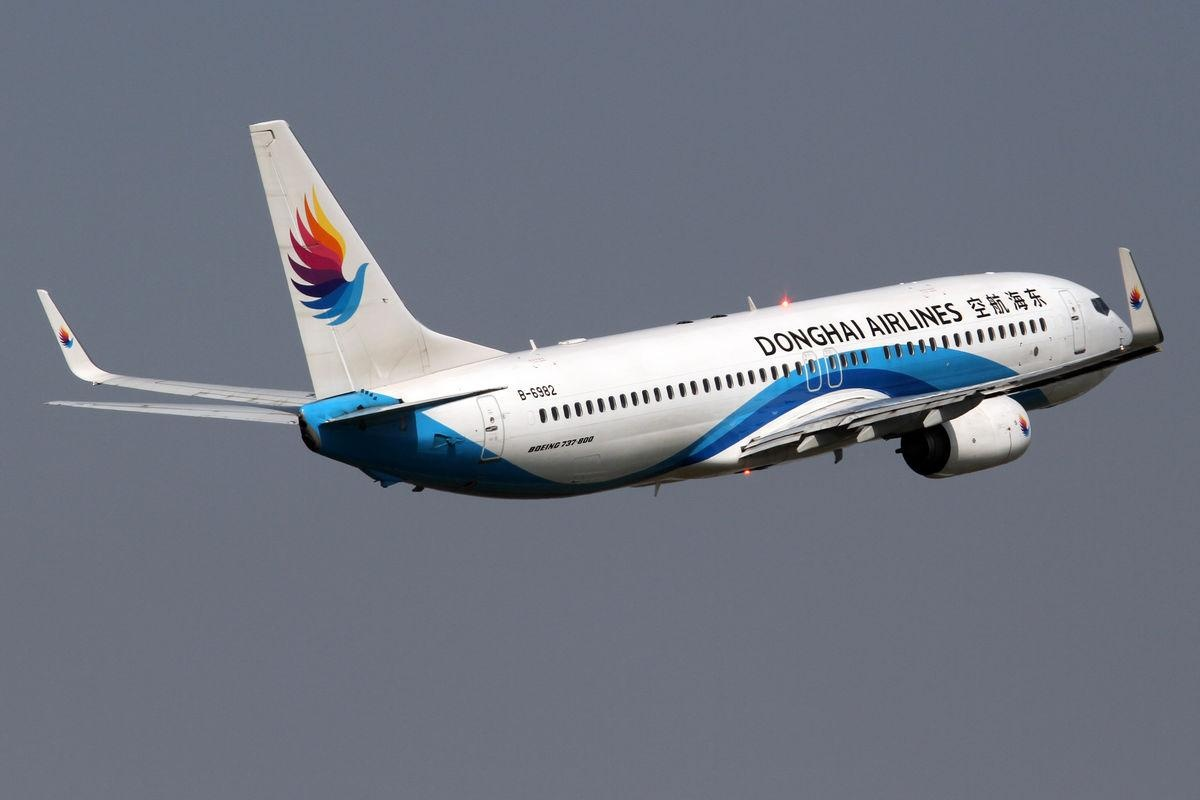airplane: (35, 111, 1167, 500)
